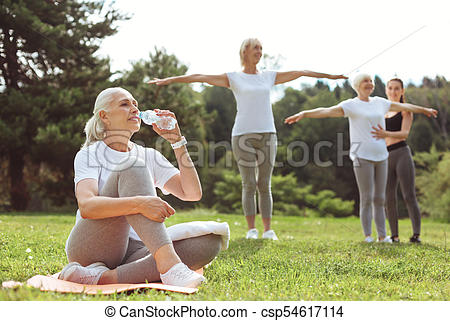drinking: (63, 76, 205, 232)
